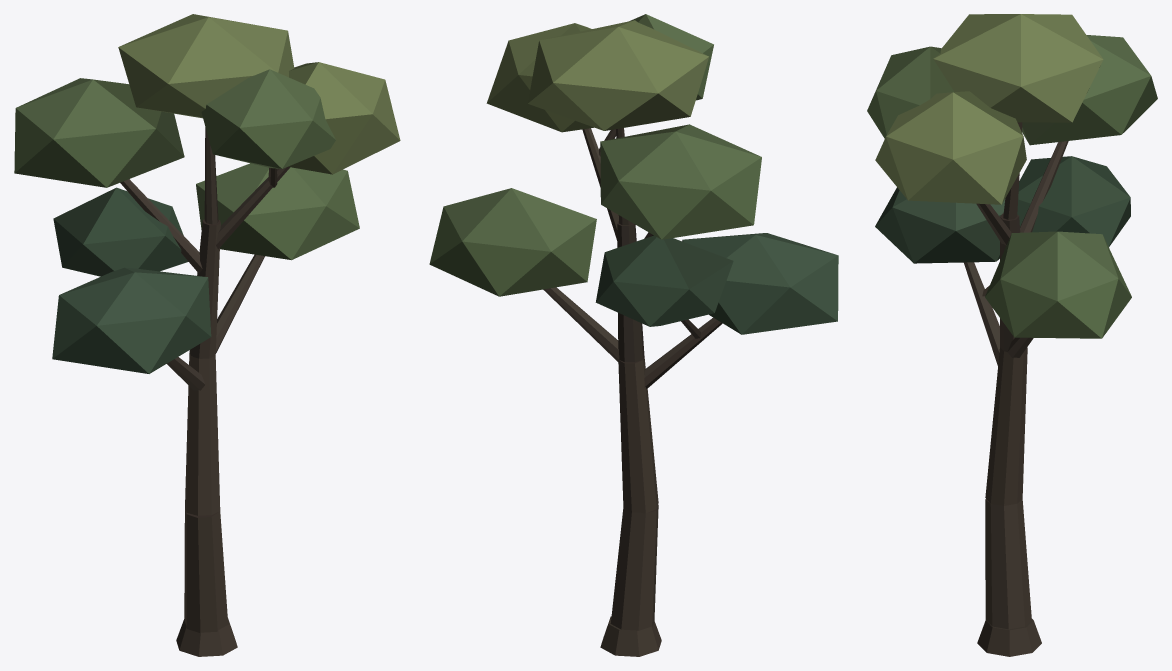
File: prop_school_tree_c.glb
3 renders of one model, left to right at view 1: azimuth 30°, elevation 25°; view 2: azimuth 150°, elevation 25°; view 3: azimuth 270°, elevation 25°, orthographic. The views are drawn at different scales.
Parts seen in each view (by area): view 1: prop_school_tree_c; view 2: prop_school_tree_c; view 3: prop_school_tree_c.
Part boxes in pixels (bbox=[...]): prop_school_tree_c: bbox=[14, 14, 400, 656]; prop_school_tree_c: bbox=[429, 14, 838, 656]; prop_school_tree_c: bbox=[867, 14, 1157, 656].
Bounding box in the file's own units: 2.88 × 4.95 × 2.06.
